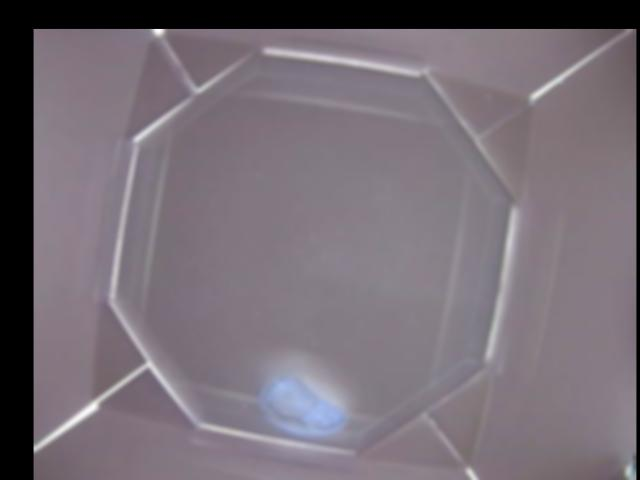Pebble: (257, 377, 347, 434)
